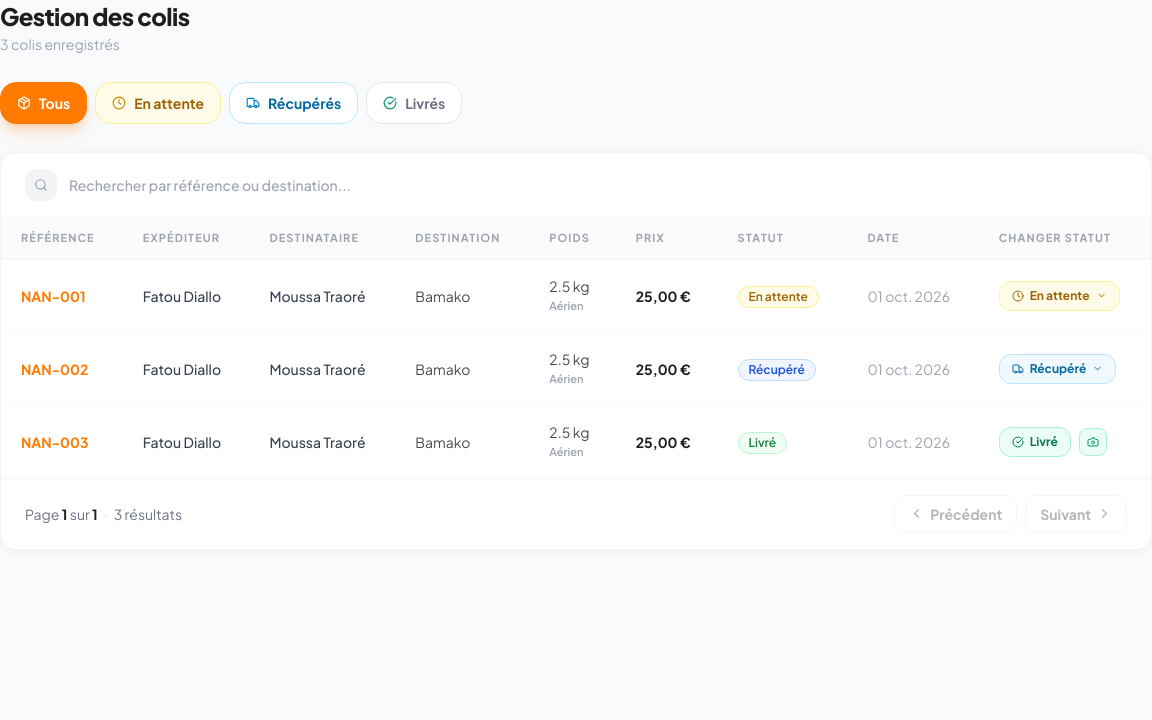
Test: ColisPage — preuve de livraison › aucune preuve (404 → null) : propose d’en ajouter une
Expected: the text "NAN-003" is shown, x1=21 y1=432 x2=88 y2=452
Click the button titled "Preuve de livraison". click: [1093, 442]
box: x1=1079 y1=428 x2=1107 y2=456
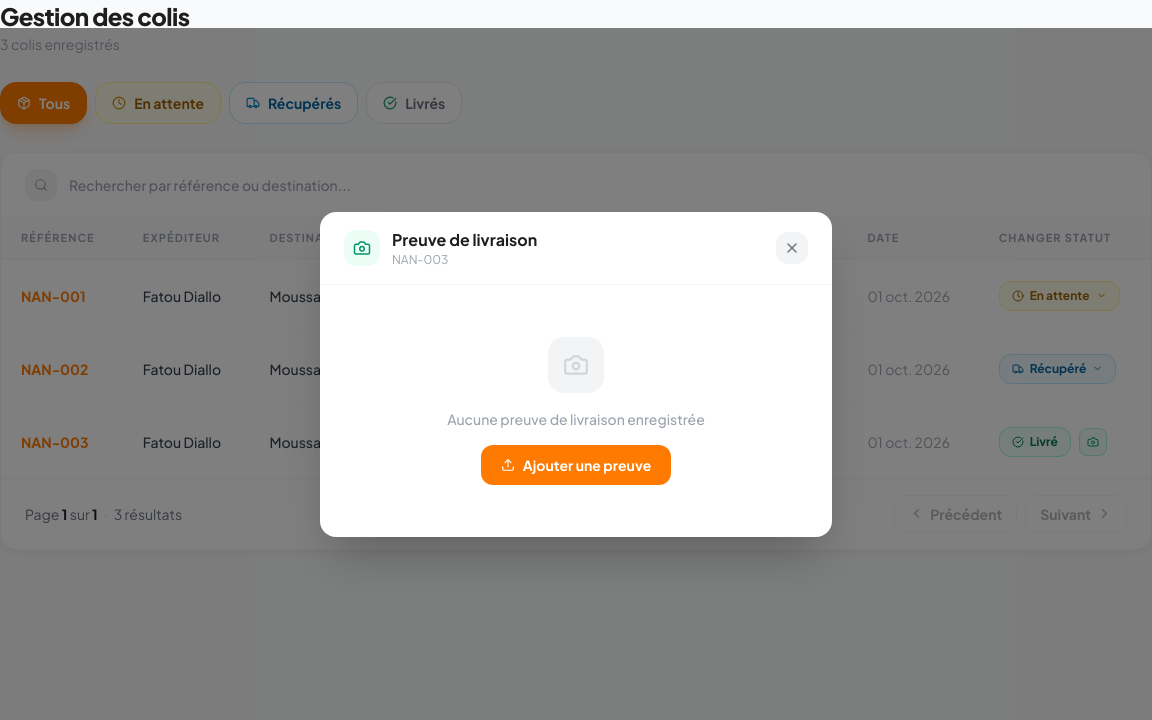
Expected: the text "Aucune preuve de livraison enregistrée" is shown, x1=447 y1=408 x2=705 y2=428
Expected: the button "Ajouter une preuve" is shown, x1=481 y1=444 x2=671 y2=484
